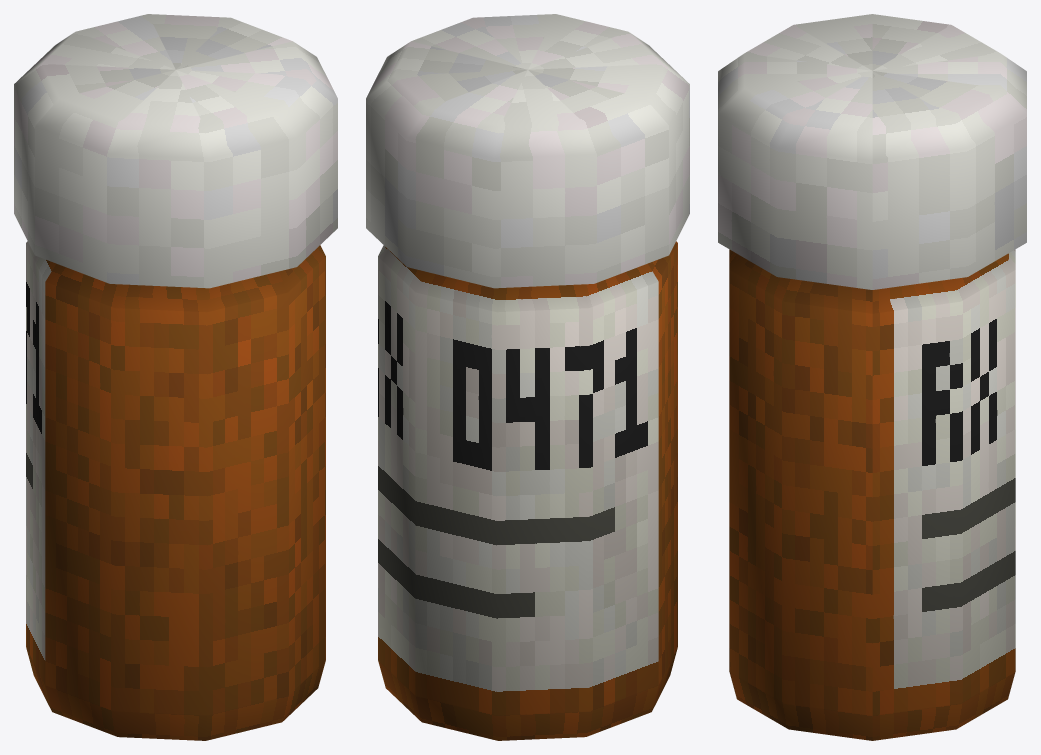
The model's file is pill_bottle.glb.
3 views of the same model, side by side, from view 1: azimuth 30°, elevation 25°; view 2: azimuth 150°, elevation 25°; view 3: azimuth 270°, elevation 25° (orthographic).
Parts seen in each view (by area): view 1: pill_bottle, pill_bottle_cap; view 2: pill_bottle, pill_bottle_cap; view 3: pill_bottle, pill_bottle_cap.
Boxes of the visible parts, x1=… form: pill_bottle: x1=26, y1=241, x2=325, y2=740; pill_bottle_cap: x1=14, y1=14, x2=337, y2=288; pill_bottle: x1=378, y1=241, x2=677, y2=740; pill_bottle_cap: x1=366, y1=14, x2=689, y2=288; pill_bottle: x1=729, y1=249, x2=1015, y2=740; pill_bottle_cap: x1=718, y1=14, x2=1026, y2=289.
Bounding box in the file's own units: 0.041 × 0.085 × 0.039.
Materials: 2 (2 with a texture image).
